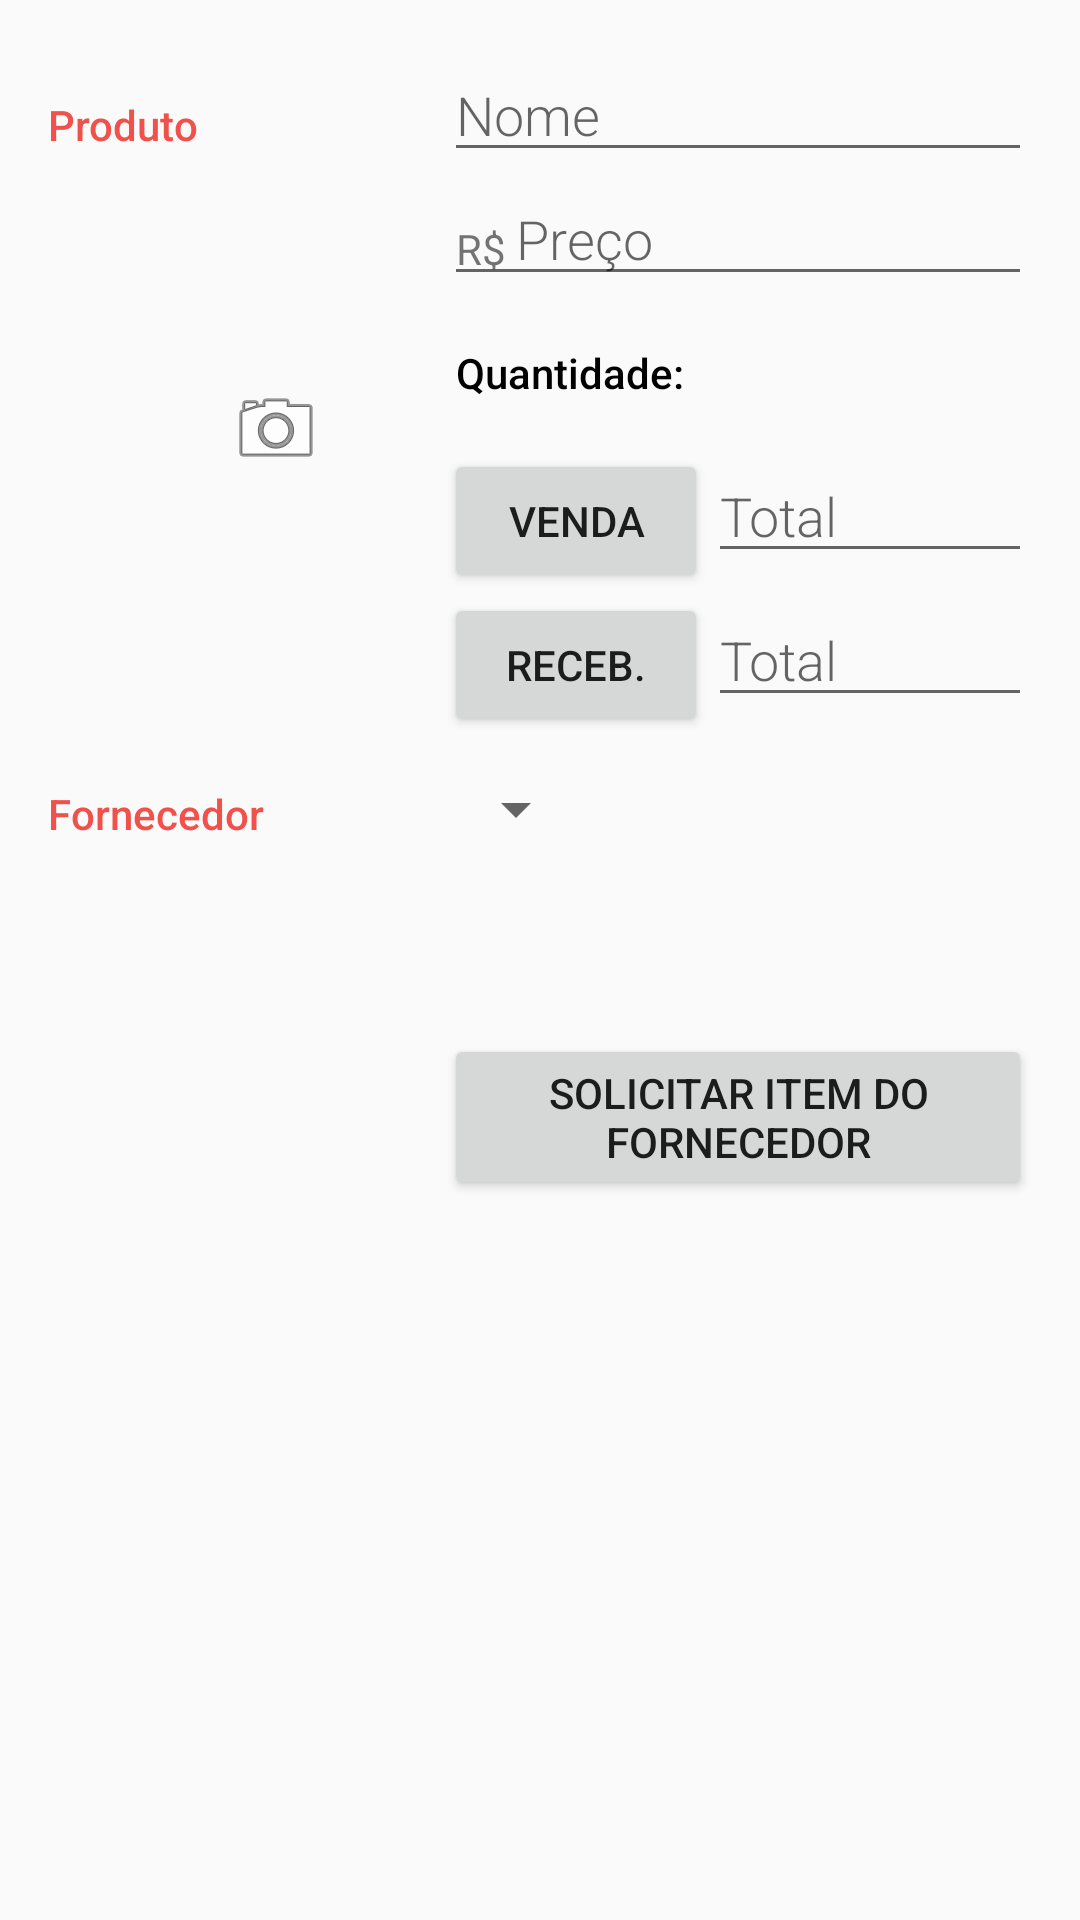

Icons on this 1080px x 1920px Android screen, each with its box as (x1, y1, x2, y2):
camera: (239, 398, 313, 457)
